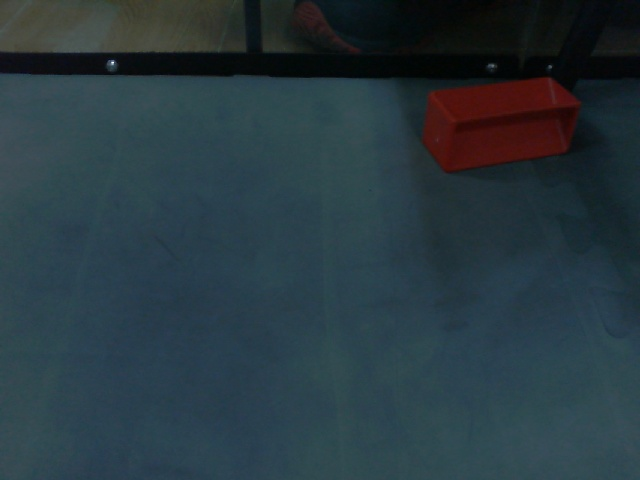RedSample: (420, 74, 583, 175)
